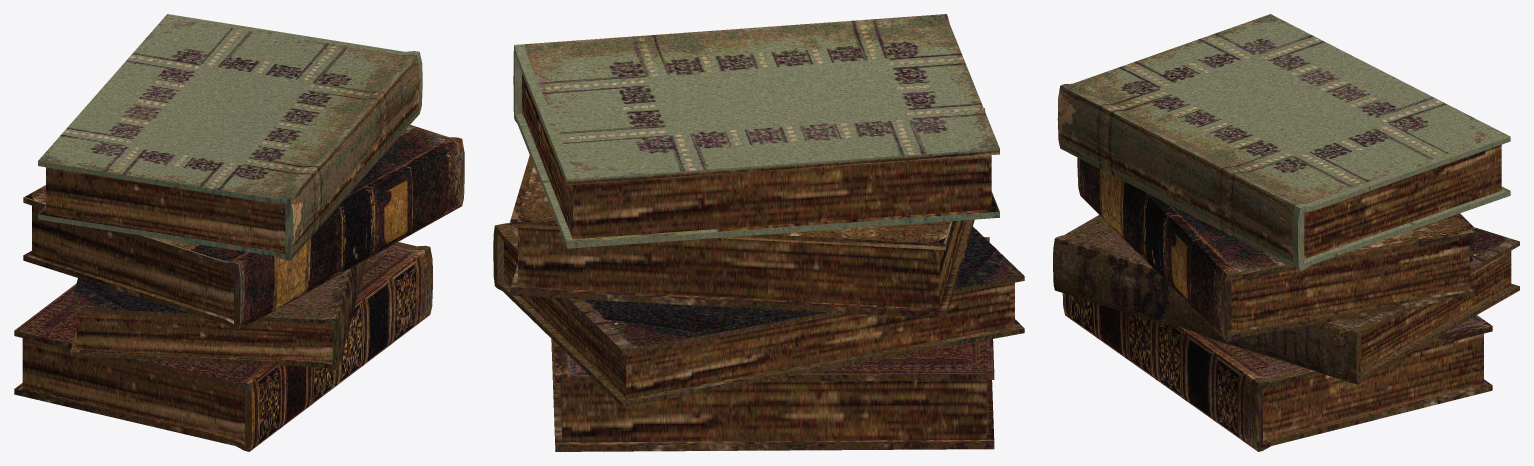
The model's file is BookSet_1.fbx.
3 renders of one model, left to right at view 1: azimuth 30°, elevation 25°; view 2: azimuth 150°, elevation 25°; view 3: azimuth 270°, elevation 25°, orthographic. The views are drawn at different scales.
Parts seen in each view (by area): view 1: BookSetPile; view 2: BookSetPile; view 3: BookSetPile.
Boxes of the visible parts, x1,y1,x2,y2 form: BookSetPile: [14, 14, 464, 451]; BookSetPile: [493, 14, 1024, 451]; BookSetPile: [1053, 14, 1519, 451].
Bounding box in the file's own units: 38.54 × 21.87 × 37.2.
1 material, 1 textured.
